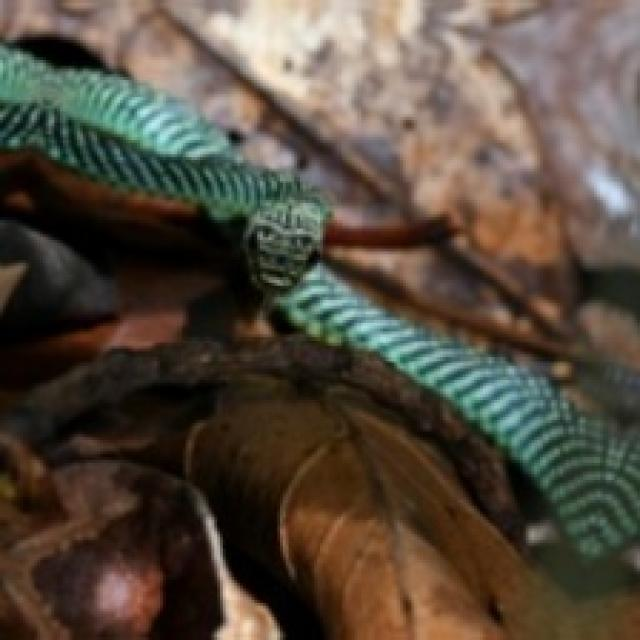paradise tree snake: (0, 0, 637, 431), (509, 460, 637, 606), (34, 191, 189, 240), (0, 189, 34, 214)
